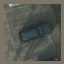car: (19, 22, 52, 43)
